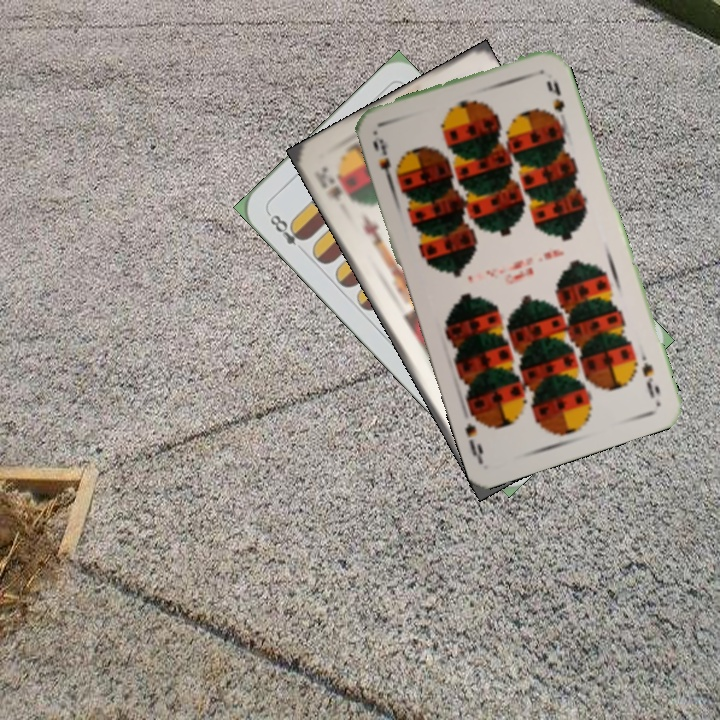E8: (263, 208, 310, 249)
S9: (368, 135, 396, 188), (638, 358, 663, 401)
SK: (310, 161, 345, 205)
